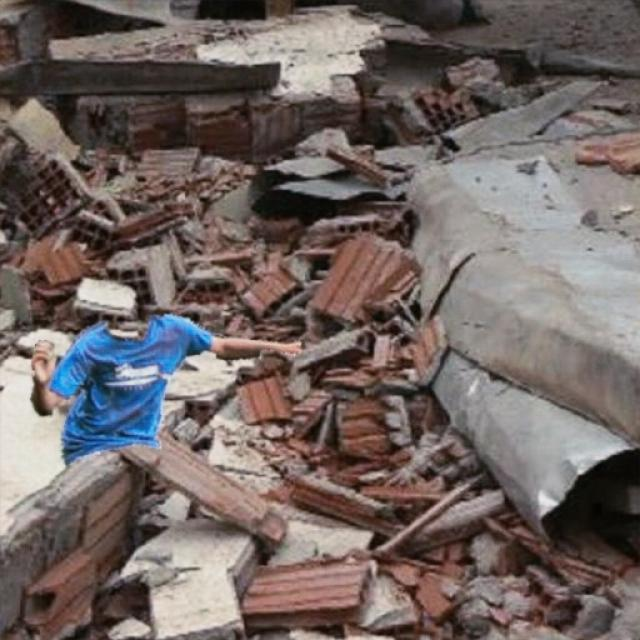Person in Rubble: (30, 314, 300, 465)
